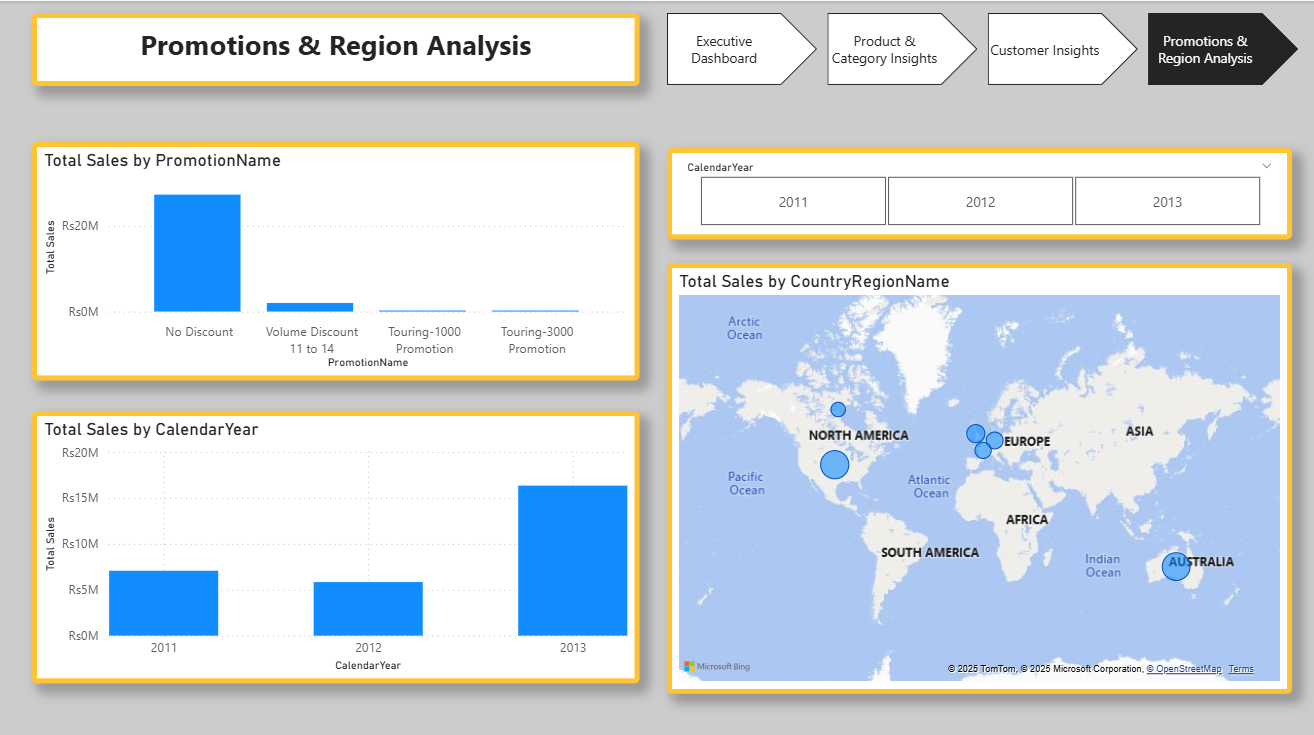

What the dashboard file says about the page in this screenshot:
{"tool":"powerbi","page":{"name":"Promotions & Region Analysis","canvas":[1280,720],"ordinal":3},"visuals":[{"type":"clusteredColumnChart","fields":{"Category":["DimPromotion.PromotionName"],"Y":["Measurestbl.Total Sales"]},"box":[32.6,137.3,591,231.9],"z":0},{"type":"columnChart","fields":{"Category":["DimDate.CalendarYear"],"Y":["Measurestbl.Total Sales"]},"box":[32.6,398.5,591,264.6],"z":1000},{"type":"map","fields":{"Category":["DimGeography.CountryRegionName"],"Size":["Measurestbl.Total Sales"]},"box":[650.7,254.4,607.9,418.8],"z":2000},{"type":"slicer","fields":{"Values":["DimDate.CalendarYear"]},"box":[650.7,143,607.9,88.9],"z":3000},{"type":"textbox","box":[32.6,11.3,591,70.9],"z":4000},{"type":"pageNavigator","box":[650.7,11.3,615.8,70.9],"z":5000}]}

Visuals, with their boxes in screenshot pixels (x1, y1, x2, y2), scaled from the page's 1280x720 canvas onto the 1314x735 screenshot:
clusteredColumnChart - DimPromotion.PromotionName x Measurestbl.Total Sales: region(33, 140, 640, 377)
columnChart - DimDate.CalendarYear x Measurestbl.Total Sales: region(33, 407, 640, 677)
map - DimGeography.CountryRegionName x Measurestbl.Total Sales: region(668, 260, 1292, 687)
slicer - DimDate.CalendarYear: region(668, 146, 1292, 237)
textbox: region(33, 12, 640, 84)
pageNavigator: region(668, 12, 1300, 84)
